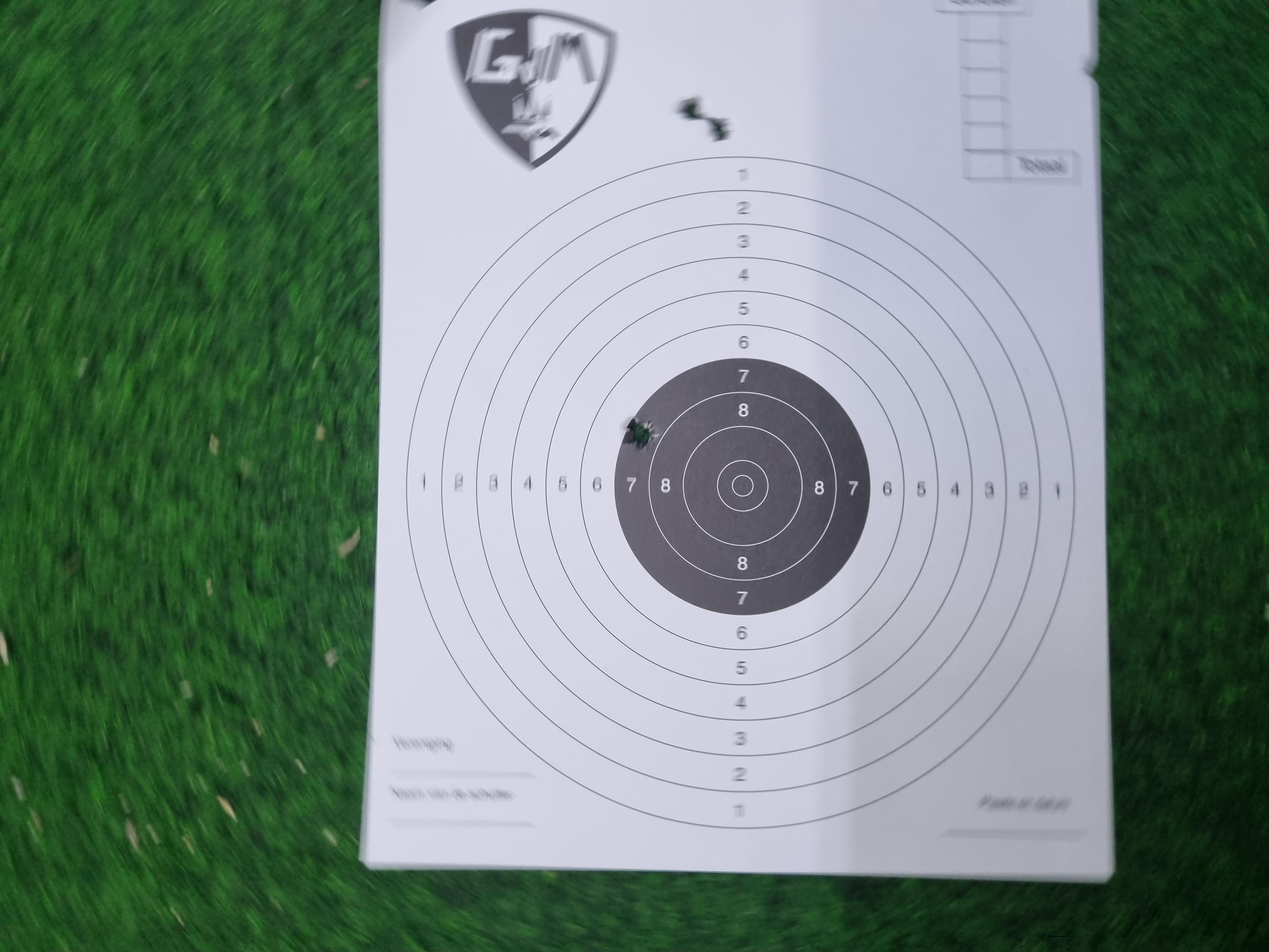hole: (668, 466, 713, 495), (1107, 506, 1141, 530), (1080, 529, 1114, 550)
